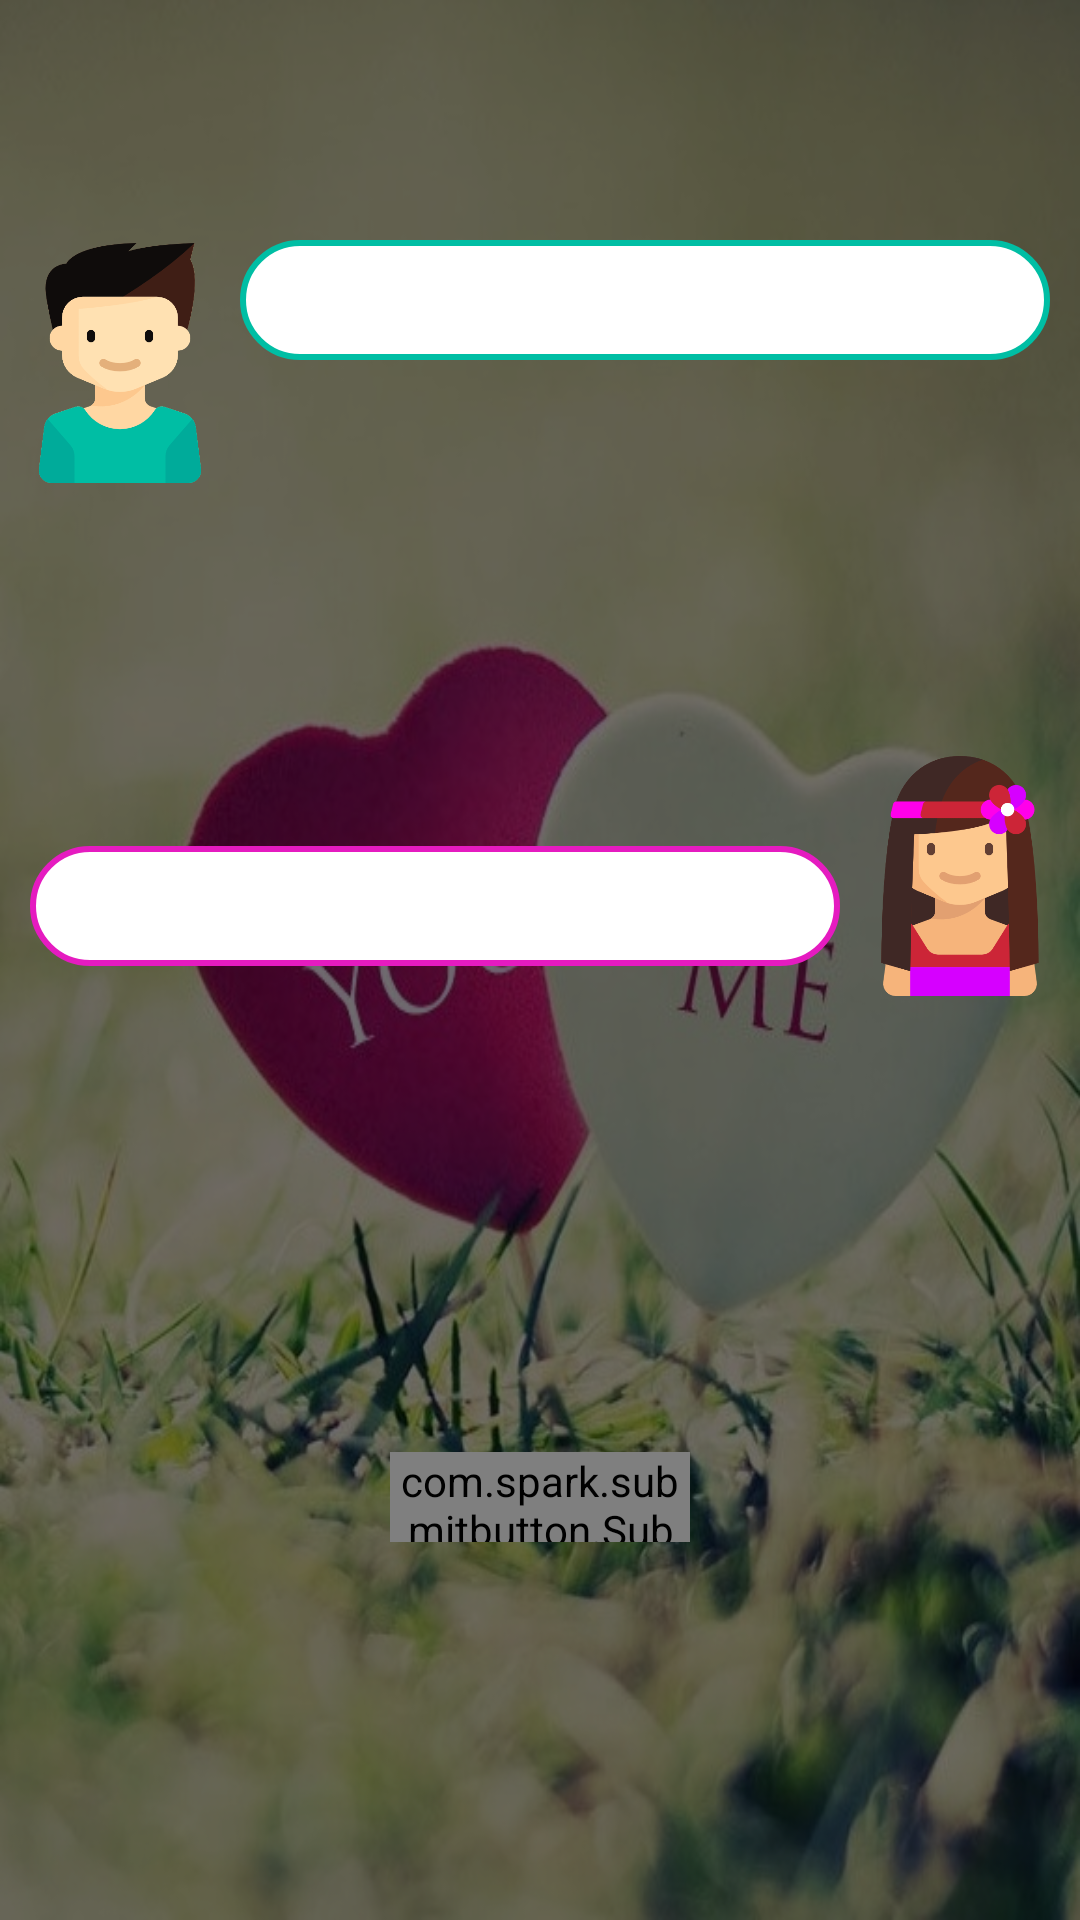

Icon bounding boxes for this 1080x1920 phone screenshot, format (x1, y1, x2, y2):
boy: (39, 243, 201, 483)
girl: (840, 726, 1080, 1026)
